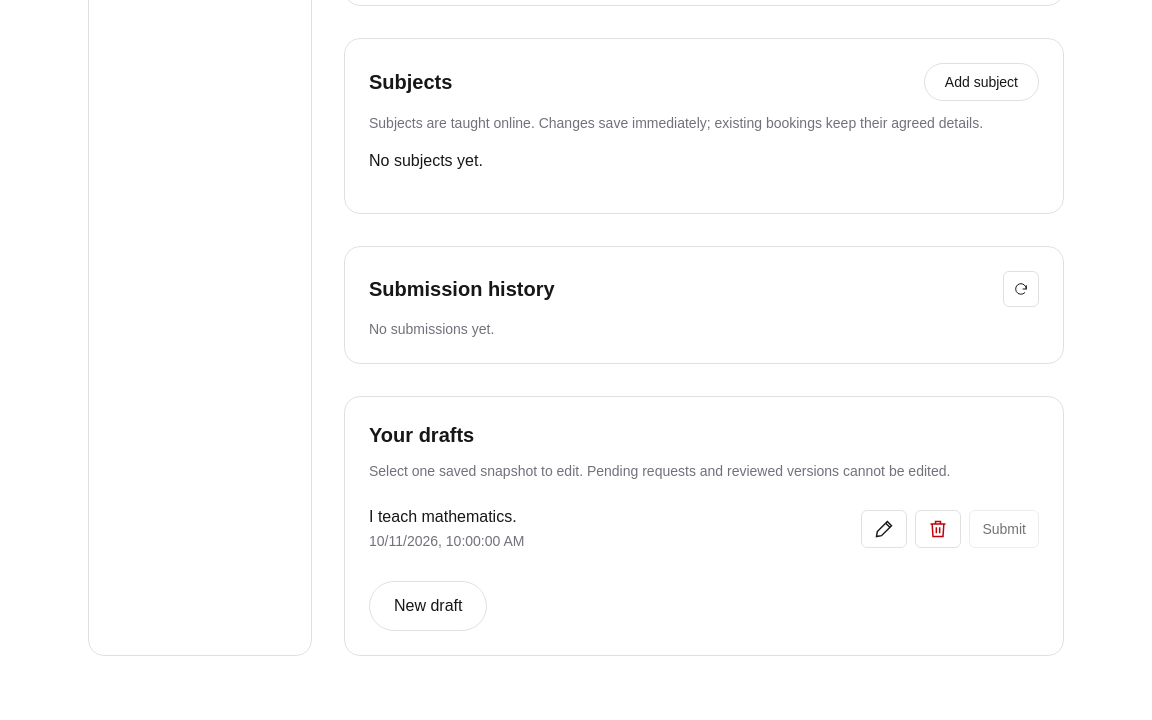
allows a bio edit while retaining approved HTTP document links
The image size is (1152, 720).
(page scrolled)
Click the button named "Edit draft ".
click(884, 529)  # box [861,510,907,548]
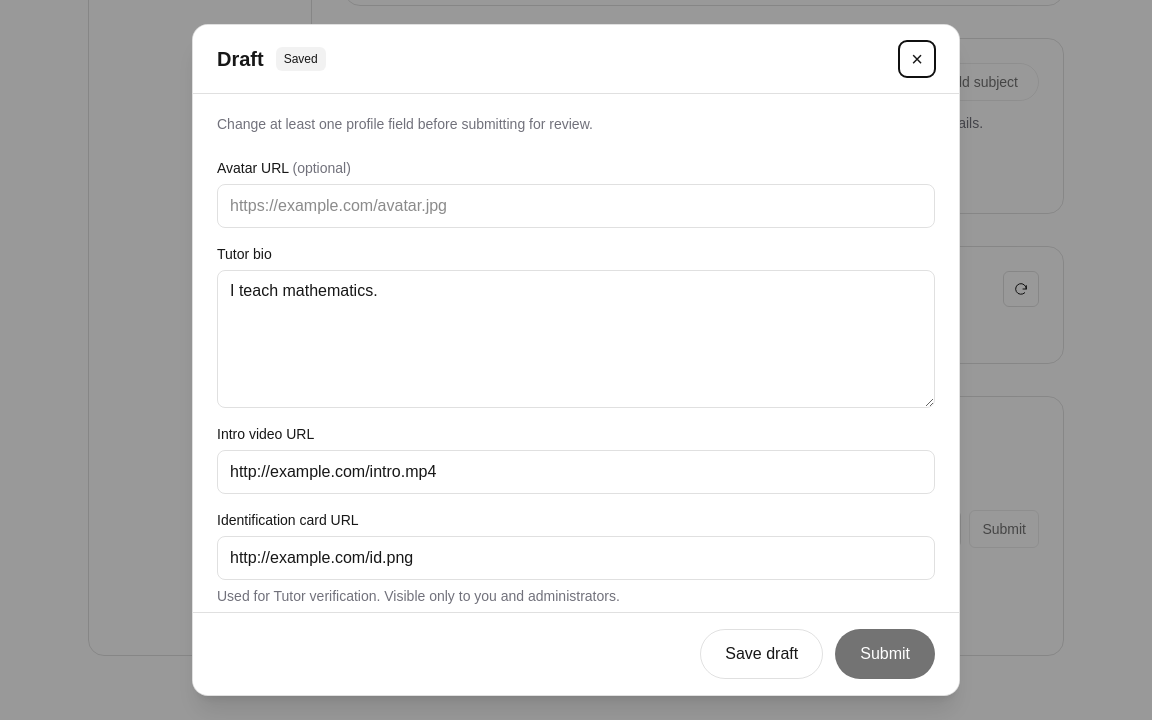
Expected: the text box labelled "Tutor bio" is shown
Replace the text in the text box labelled "Tutor bio" with "Updated experience." at (576, 339), box [217,270,935,408]
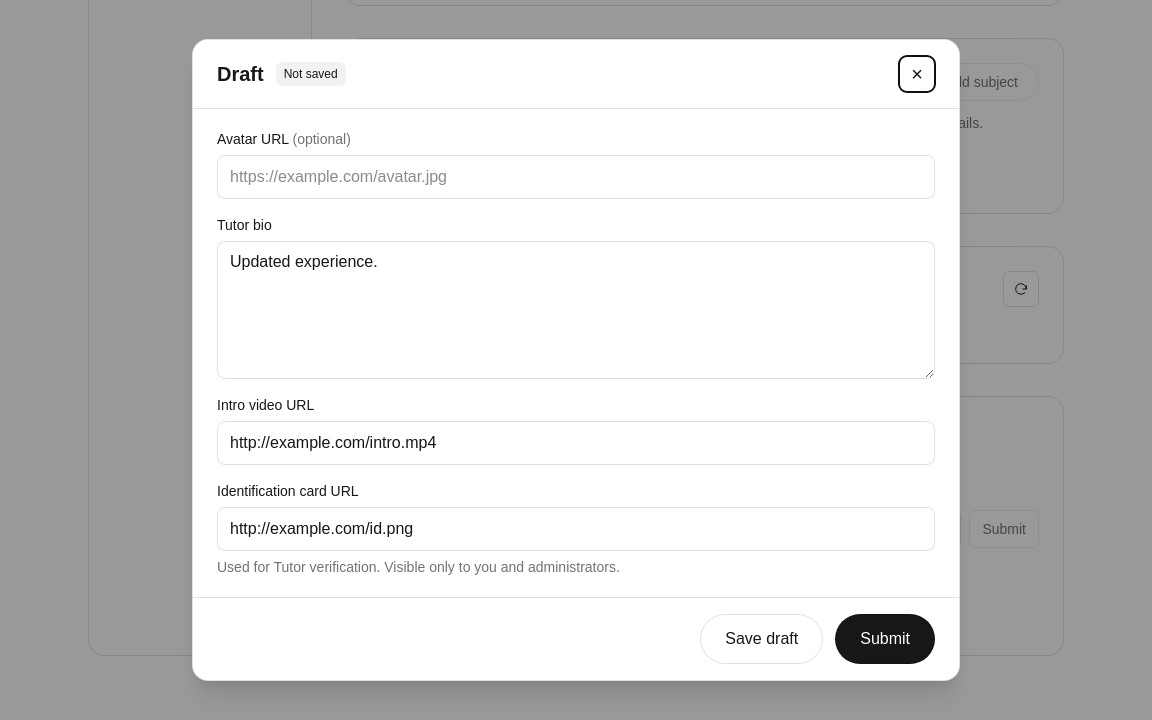
Expected: the field labelled "Identification card URL" holds "http://example.com/id.png", [217,507,935,551]
Expected: the button "Submit" is enabled, [835,614,935,664]
